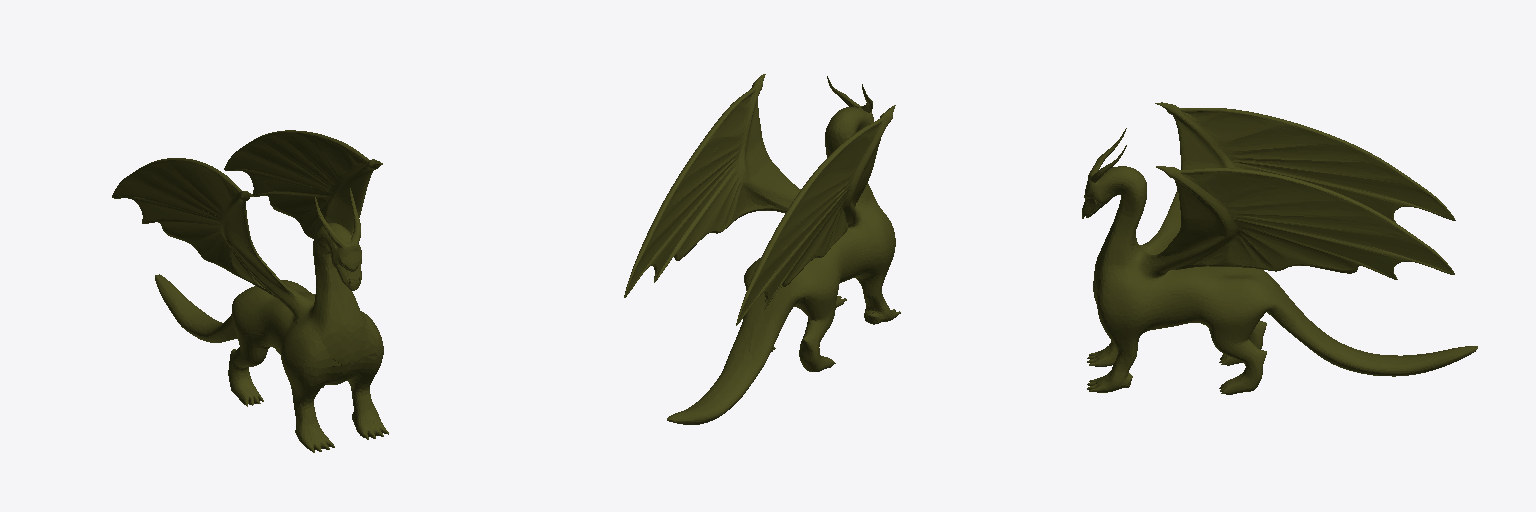
File: Dragon.obj
3 renders of one model, left to right at view 1: azimuth 30°, elevation 25°; view 2: azimuth 150°, elevation 25°; view 3: azimuth 270°, elevation 25°, orthographic.
Visible parts, largest first — view 1: Box01; view 2: Box01; view 3: Box01.
Boxes of the visible parts, <box> form: Box01: <box>112,130,388,452</box>; Box01: <box>624,74,900,424</box>; Box01: <box>1082,102,1477,394</box>.
Bounding box in the file's own units: 3.99 × 6.67 × 9.83.